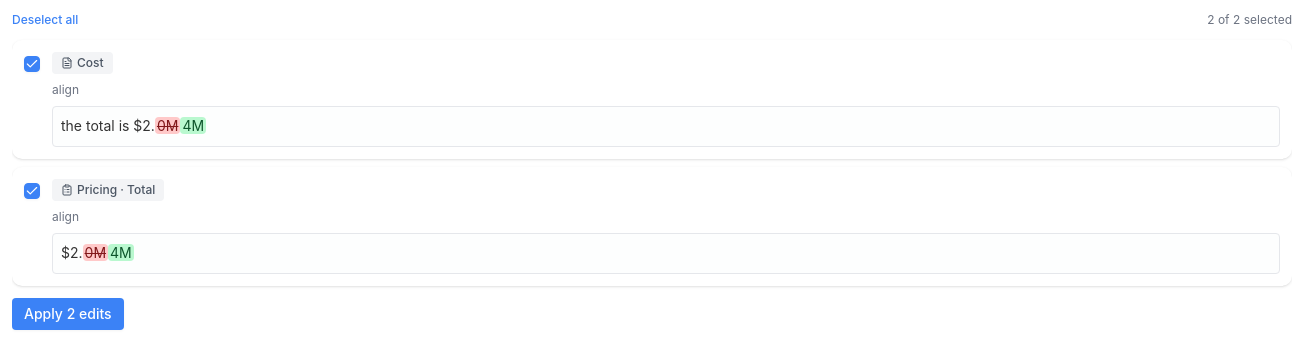
Test: ProposalRunView — select all / deselect all › "Select all" re-selects every proposal after deselecting
This screenshot has width=1304, height=347.
Click the button "Deselect all" at (45, 20), box [12,12,78,28]
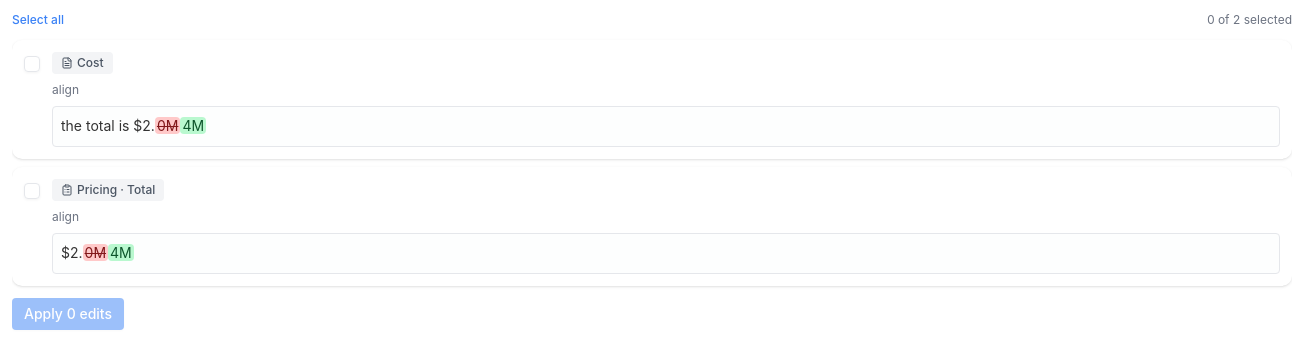
Click the button "Select all" at (38, 20), box [12,12,64,28]
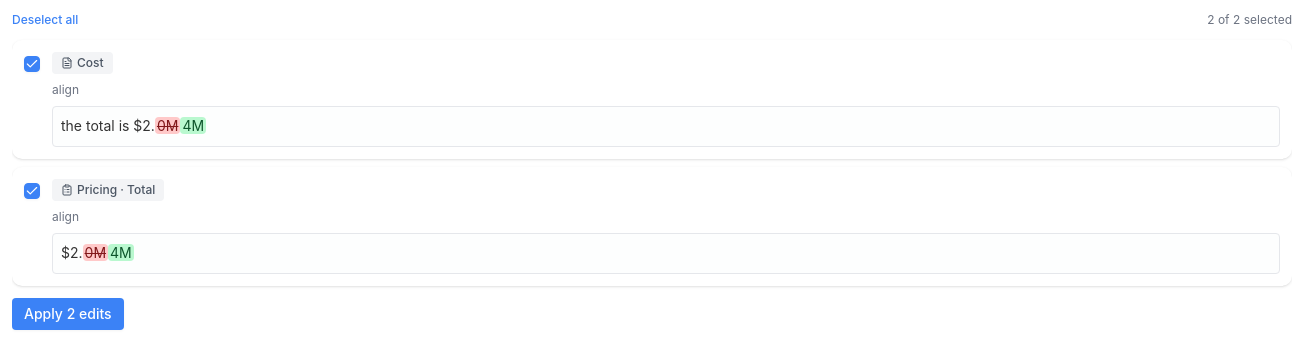
Check: the text "2 of 2 selected" is shown, box [1207,12,1292,28]
Check: the button "Apply 2 edits" is shown, box [12,298,124,330]
